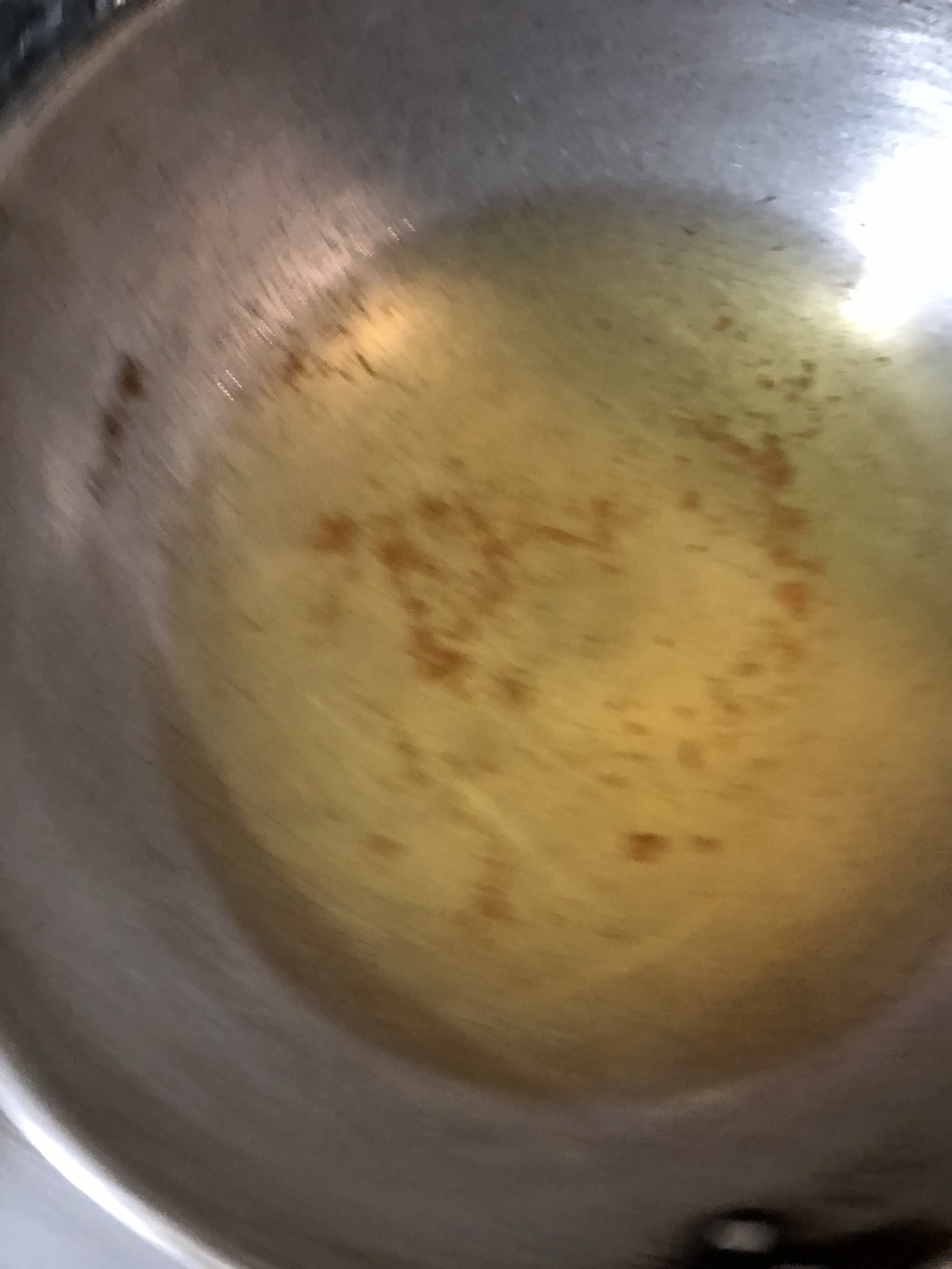reusable: (161, 192, 952, 1098)
